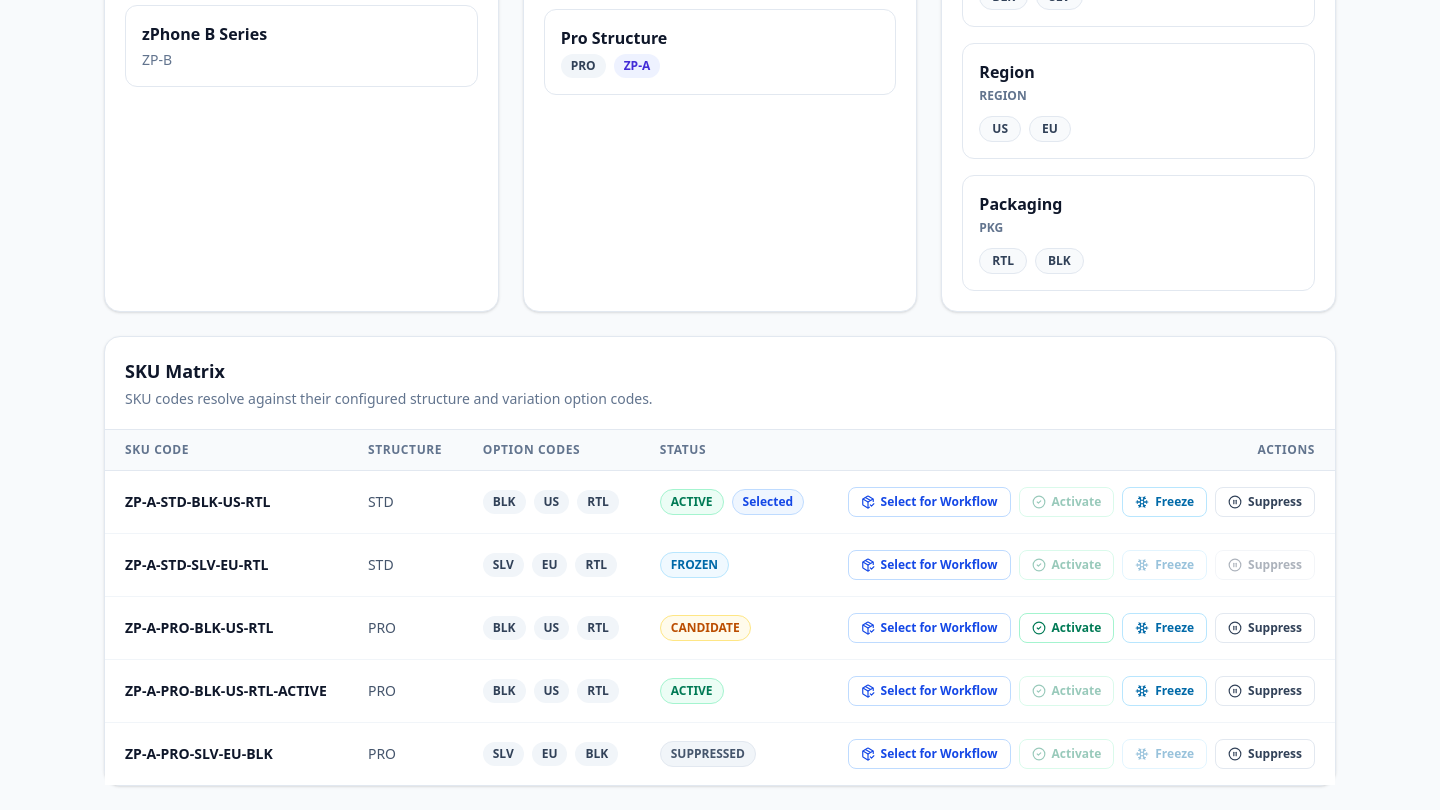
Scenario: ProductMatrixCenter › renders active project product configuration and allows candidate SKU activation
(page scrolled)
Check: the text "ZP-A-PRO-BLK-US-RTL" is shown, box [105,596,348,660]
Check: the row with test id "sku-row-sku-zp-a-pro-blk-us-rtl" shows "candidate", box [671,619,740,636]
Click the button with test id "activate-sku-zp-a-pro-blk-us-rtl". click: (1066, 628)
box: [1019,613,1114,643]
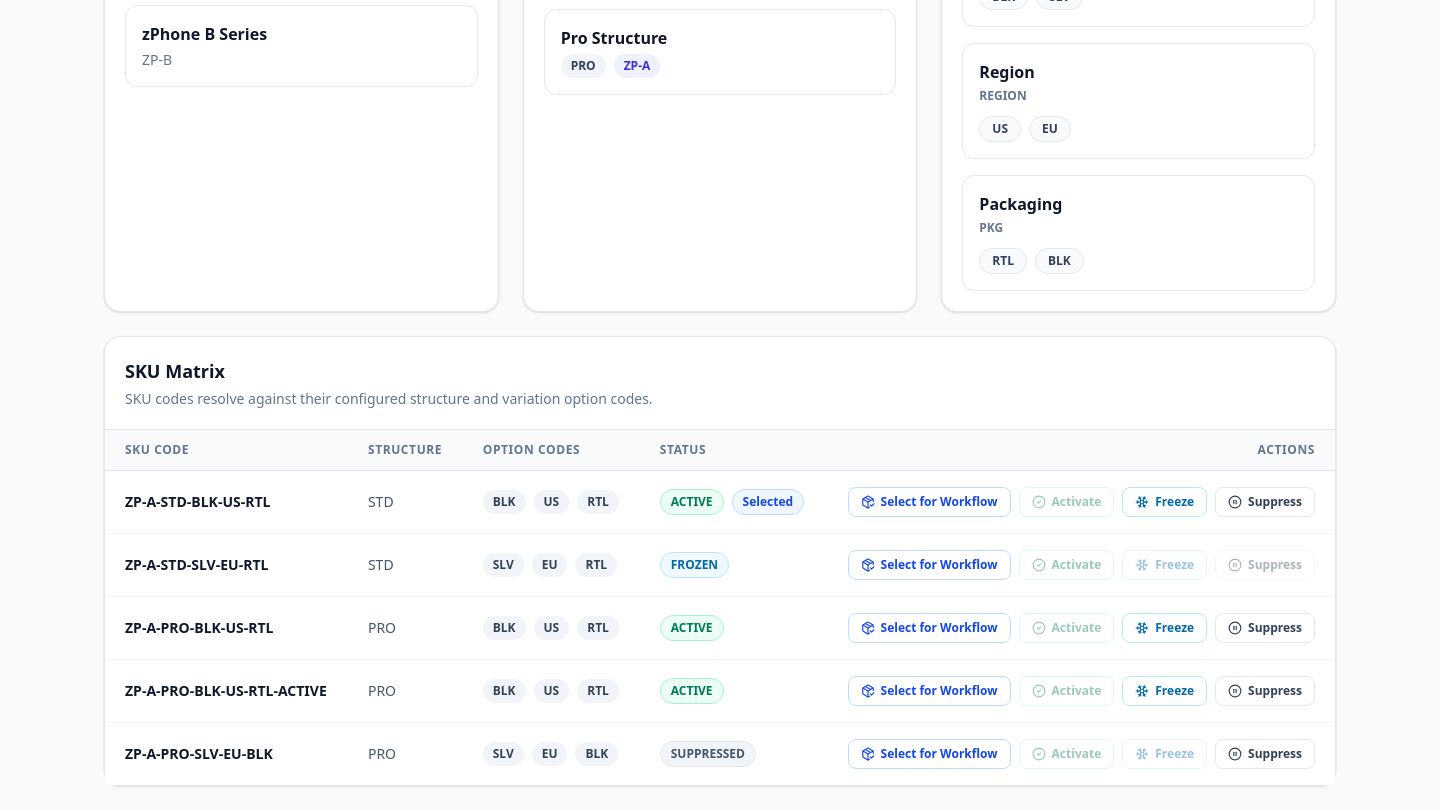
Check: the row with test id "sku-row-sku-zp-a-pro-blk-us-rtl" shows "active", box [671,619,713,636]
Click the button with test id "select-workflow-sku-zp-a-pro-blk-us-rtl". click: (929, 628)
box: [848,613,1010,643]
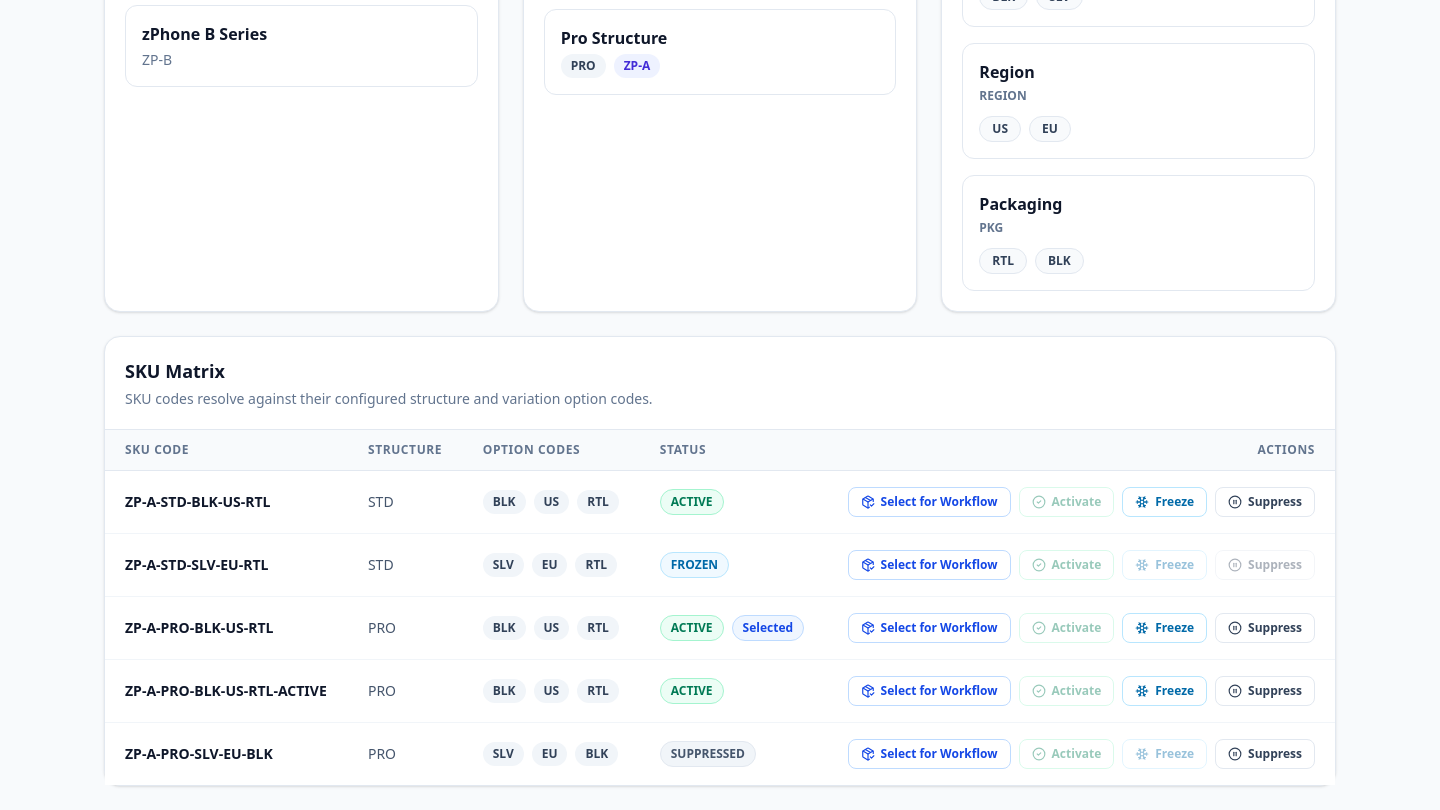
Check: the row with test id "sku-row-sku-zp-a-pro-blk-us-rtl" shows "Selected", box [743,619,793,636]
